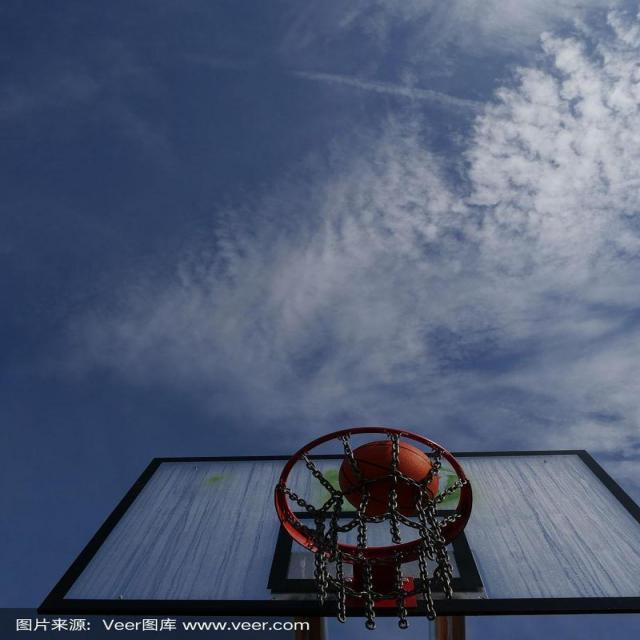rim: (340, 440, 442, 520)
